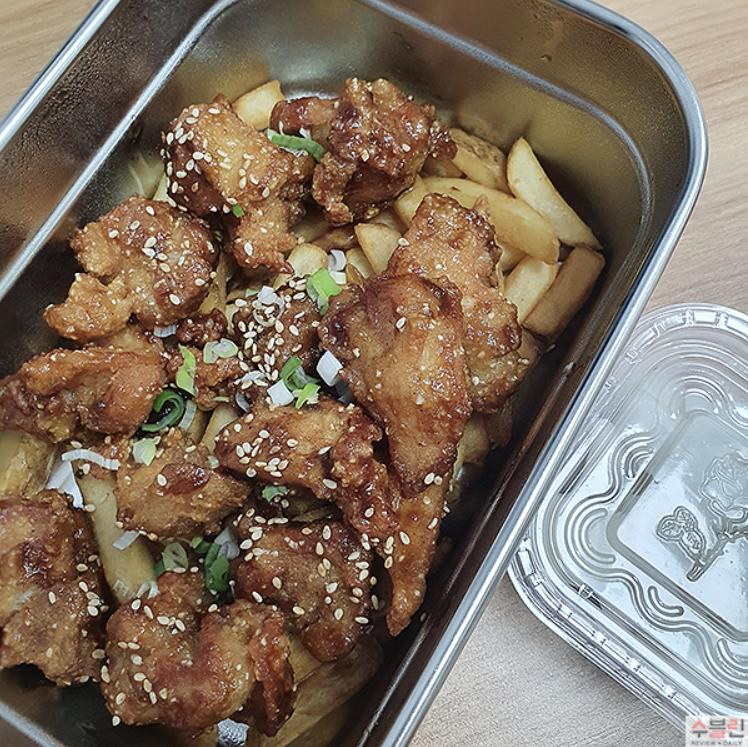Lunch Box: (0, 0, 706, 746)
